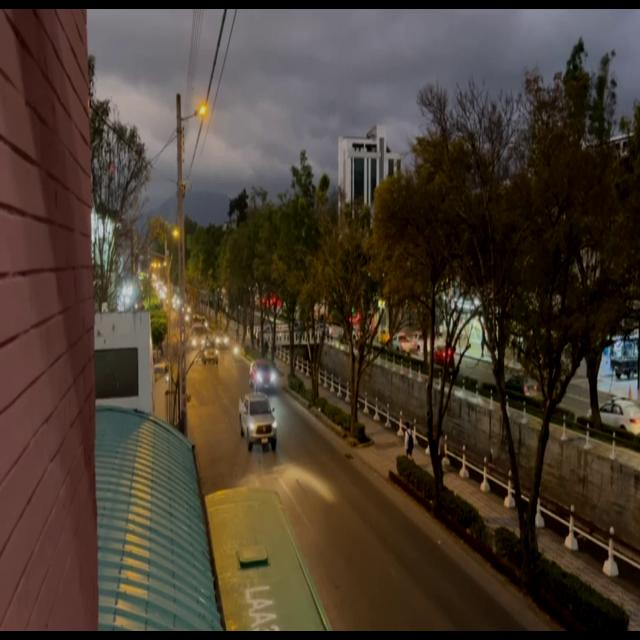CMT: (240, 394, 274, 450)
SUV: (251, 363, 272, 391)
